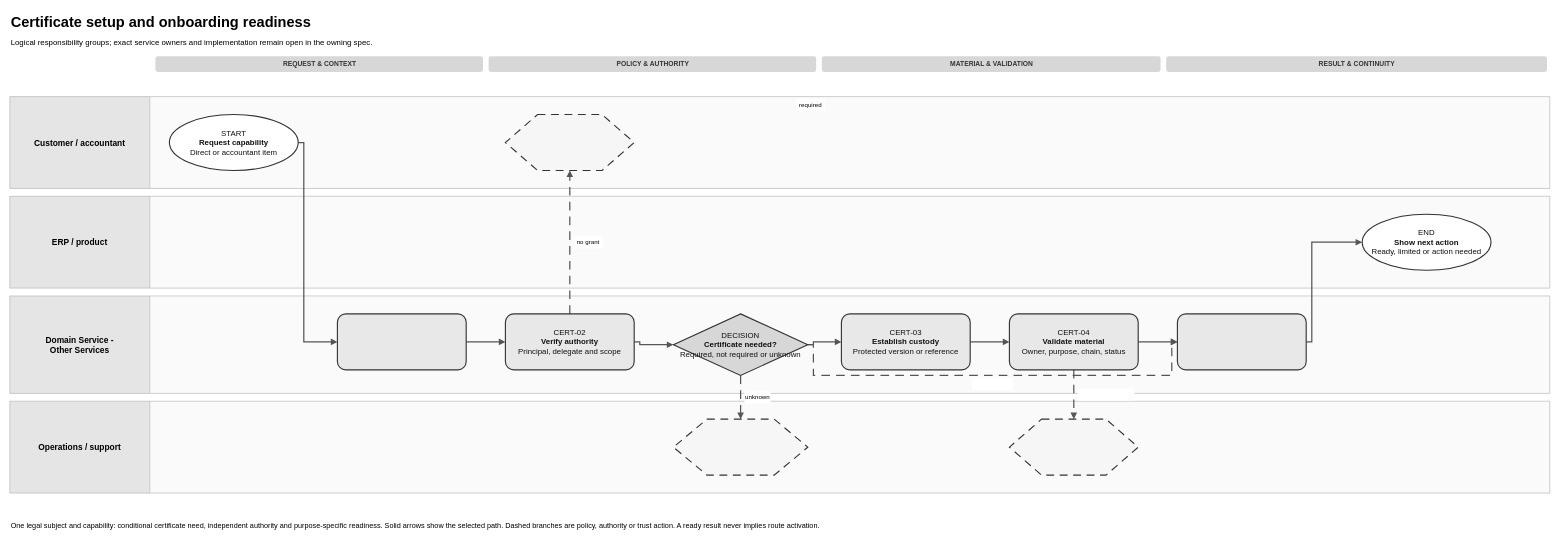
Some shapes in this 1560 by 559 pixel diagram are drawn without their labels. Here are the shapes that lost their labels. From the top down, the centre of each, then its label:
point 569,142: ACTION Obtain grant Client-specific authority
point 401,341: CERT-01 Classify need Policy, route and profile
point 1241,341: CERT-05 Decide readiness Scoped result and recheck
point 992,384: not required
point 1105,394: invalid / unknown
point 740,446: HOLD Policy decision Unknown requirement; owner assigned
point 1073,446: RECOVER Remediate or reconcile Invalid or unknown trust
